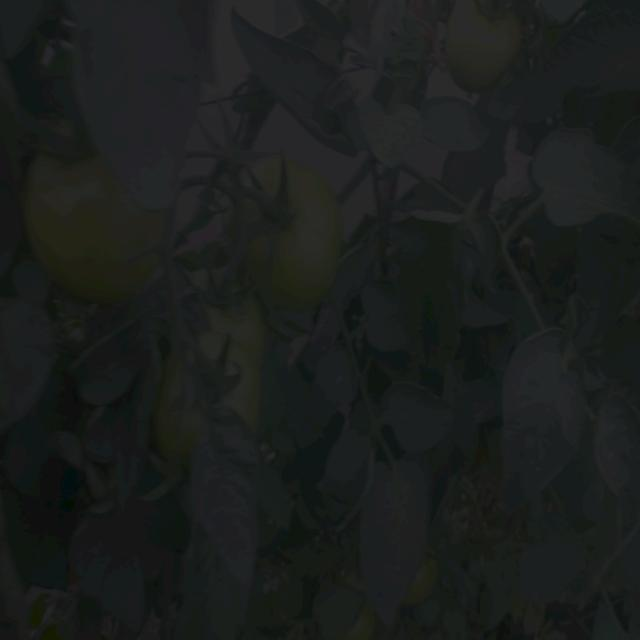tomato: (25, 165, 160, 310), (246, 157, 338, 302), (159, 333, 263, 432), (440, 1, 527, 98), (200, 288, 271, 359), (407, 563, 445, 609)
